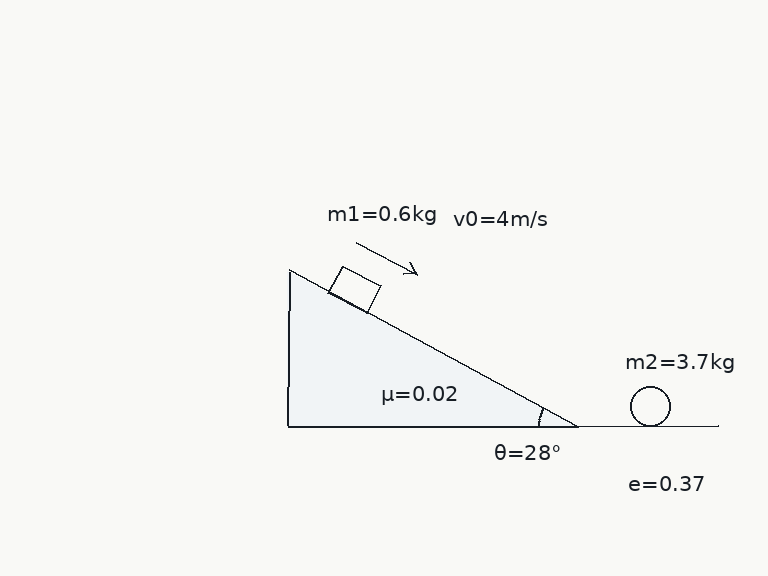ball: (628, 384, 672, 428)
block: (326, 264, 382, 314)
ramp: (286, 269, 581, 428)
